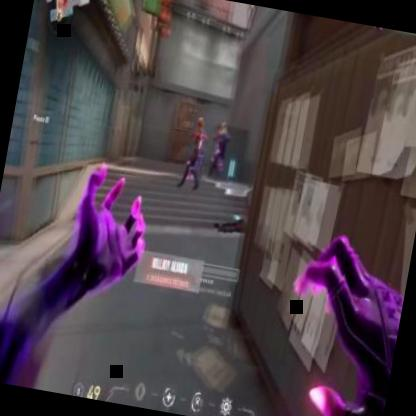enemy: (180, 114, 209, 191), (205, 118, 231, 184)
enemy_head: (196, 116, 204, 130), (219, 122, 227, 132)
